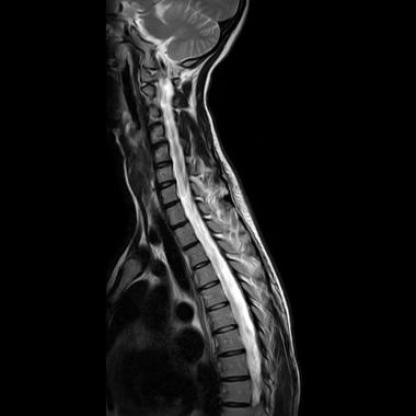Disc Bulgerotation: (151, 136, 167, 150)
